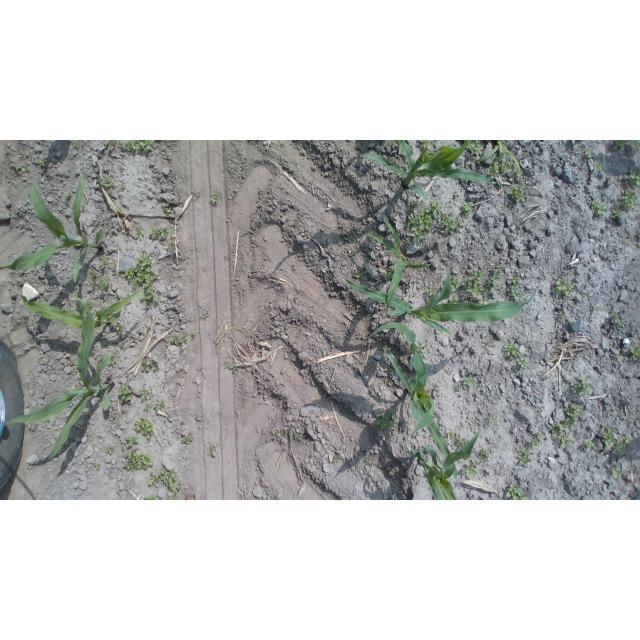Maize: (4, 295, 113, 460), (344, 270, 537, 334), (0, 167, 106, 283), (382, 345, 460, 486), (361, 140, 496, 201), (11, 278, 142, 328), (365, 218, 431, 308), (410, 430, 482, 500)
Weeds: (125, 253, 162, 304), (472, 140, 523, 176), (462, 266, 503, 306), (405, 200, 442, 242), (551, 404, 582, 448), (599, 427, 631, 455), (149, 468, 184, 492), (488, 155, 517, 179), (124, 451, 153, 472), (441, 213, 466, 234), (135, 416, 155, 441), (377, 411, 400, 432), (508, 275, 525, 302), (510, 180, 529, 203), (123, 140, 156, 153), (506, 484, 531, 500), (554, 278, 574, 296), (572, 380, 593, 397), (504, 342, 523, 360), (620, 188, 637, 208), (171, 332, 195, 346), (516, 445, 532, 466), (117, 383, 133, 403), (591, 201, 608, 218), (466, 141, 485, 156), (141, 358, 160, 372), (462, 462, 480, 476), (150, 227, 168, 240), (419, 284, 437, 296), (610, 313, 624, 328), (449, 275, 460, 293), (461, 200, 473, 216), (628, 170, 640, 186), (415, 340, 427, 356), (99, 276, 111, 292), (88, 269, 98, 288), (463, 374, 477, 387), (124, 436, 140, 447), (615, 141, 640, 148), (140, 389, 155, 400), (62, 191, 73, 205), (107, 349, 117, 364), (100, 177, 115, 187), (360, 455, 372, 467), (631, 345, 640, 361), (611, 466, 624, 477), (99, 259, 113, 269), (480, 449, 491, 461), (353, 270, 367, 279), (210, 191, 219, 205), (613, 208, 624, 219), (154, 401, 165, 412), (517, 360, 528, 371), (380, 271, 392, 281), (181, 436, 194, 445), (112, 324, 122, 334), (584, 440, 594, 450), (163, 204, 174, 213), (447, 430, 456, 441), (489, 415, 498, 426), (594, 164, 603, 173), (95, 356, 104, 365), (136, 228, 145, 237), (144, 496, 160, 501), (201, 309, 209, 319), (17, 167, 27, 175), (450, 297, 459, 305), (39, 157, 47, 166), (585, 150, 593, 158), (295, 433, 303, 441), (456, 439, 464, 447), (144, 404, 153, 411), (73, 140, 80, 149), (532, 440, 539, 449), (106, 447, 113, 455), (559, 311, 566, 319), (232, 366, 241, 372), (115, 207, 124, 213), (334, 455, 341, 462), (457, 385, 464, 392), (487, 340, 495, 346), (372, 401, 380, 407), (251, 268, 257, 276), (289, 220, 297, 226), (420, 141, 426, 148), (275, 429, 281, 436), (616, 355, 623, 361), (168, 495, 176, 500), (348, 228, 356, 233), (211, 451, 217, 457), (623, 239, 629, 245), (538, 431, 544, 437), (424, 444, 432, 448), (347, 236, 353, 241), (257, 215, 263, 220), (548, 375, 553, 381), (96, 464, 101, 469), (120, 343, 125, 348), (168, 243, 172, 249), (104, 227, 108, 233), (112, 412, 116, 418), (352, 253, 359, 256), (329, 280, 333, 284), (424, 276, 428, 280), (44, 421, 48, 425), (544, 226, 547, 231), (121, 186, 126, 189), (377, 289, 381, 292)
